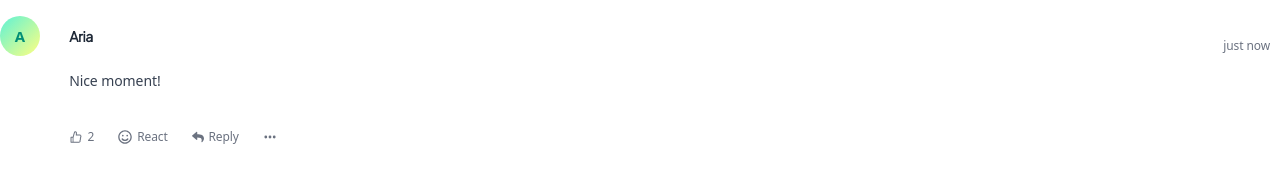
Test: CommentItem › translates the body through translateComment
This screenshot has width=1280, height=184.
Click the button with test id "translatable-text" at [115, 81], box [69,71,161,90]
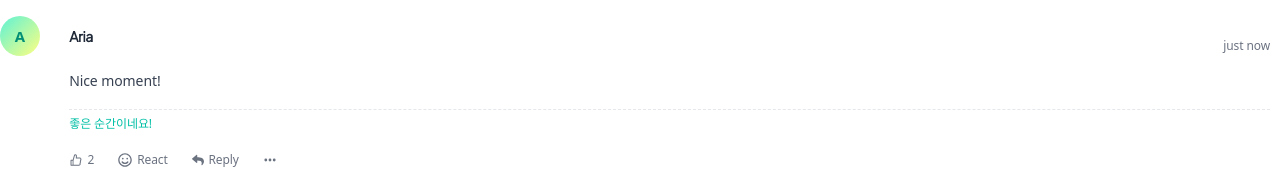
Now the text with test id "translatable-translation" reads "좋은 순간이네요!", box [69,115,152,132]
